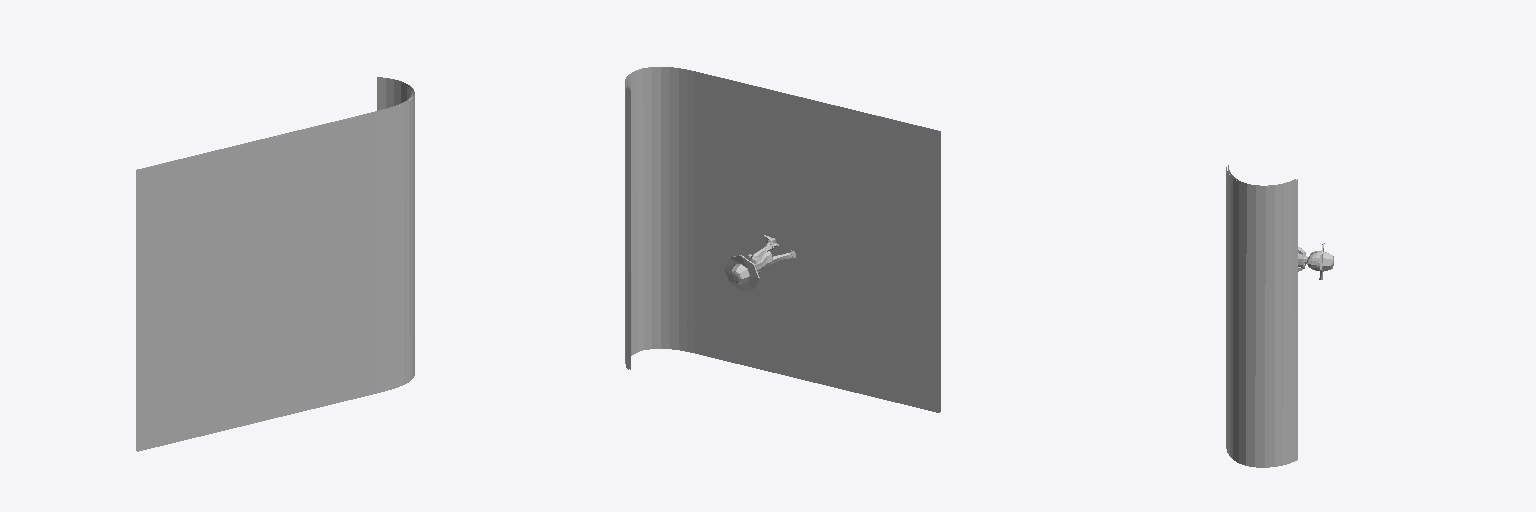
The model's file is start_file2_000067.obj.
3 views of the same model, side by side, from view 1: azimuth 30°, elevation 25°; view 2: azimuth 150°, elevation 25°; view 3: azimuth 270°, elevation 25° (orthographic).
Visible parts, largest first — view 1: Cube_Cube.001; view 2: Cube_Cube.001, Character_Cube; view 3: Cube_Cube.001, Character_Cube.
Part boxes in pixels (x1,y1,x2,y2): Cube_Cube.001: (136, 77, 414, 451); Cube_Cube.001: (625, 67, 940, 412); Character_Cube: (724, 235, 795, 291); Cube_Cube.001: (1226, 165, 1297, 467); Character_Cube: (1298, 243, 1333, 279).
Bounding box in the file's own units: 1.66 × 1.52 × 0.5309.